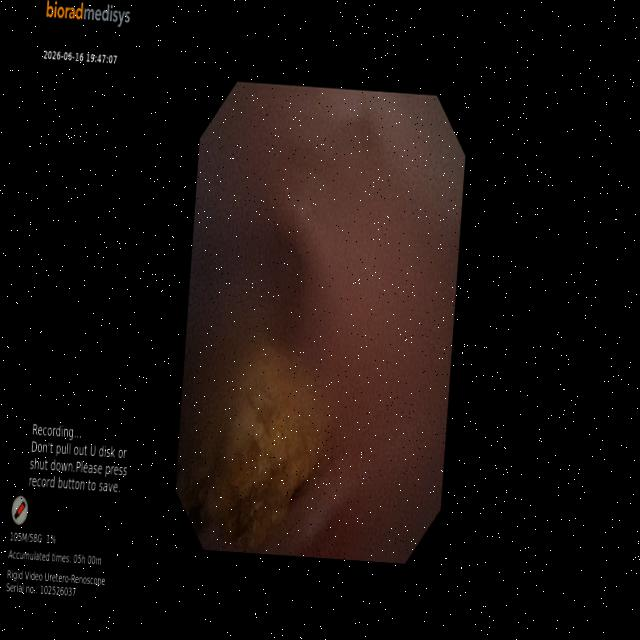stone-new: (203, 345, 322, 549)
